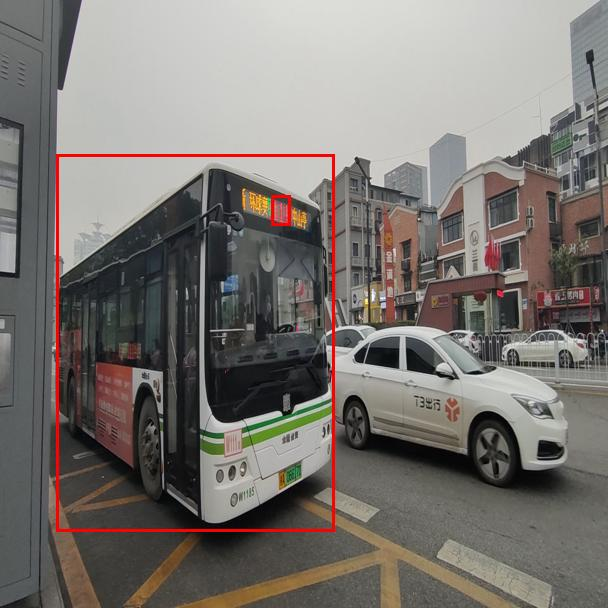bus: (56, 154, 334, 531)
screen: (271, 195, 290, 225)
